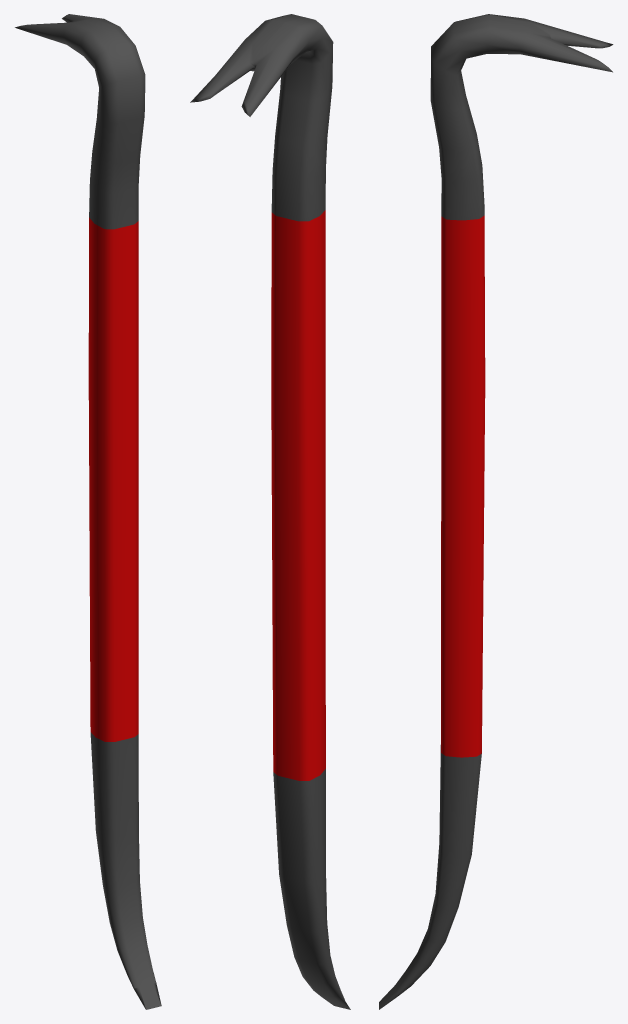
File: SomethingLikeABar.fbx
3 renders of one model, left to right at view 1: azimuth 30°, elevation 25°; view 2: azimuth 150°, elevation 25°; view 3: azimuth 270°, elevation 25°, orthographic. The views are drawn at different scales.
Visible parts, largest first — view 1: pCube3; view 2: pCube3; view 3: pCube3.
Boxes of the visible parts, x1,y1,x2,y2 form: pCube3: (15,14,161,1009); pCube3: (190,14,350,1009); pCube3: (379,14,613,1009).
Bounding box in the file's own units: 1.52 × 24.78 × 5.35.
